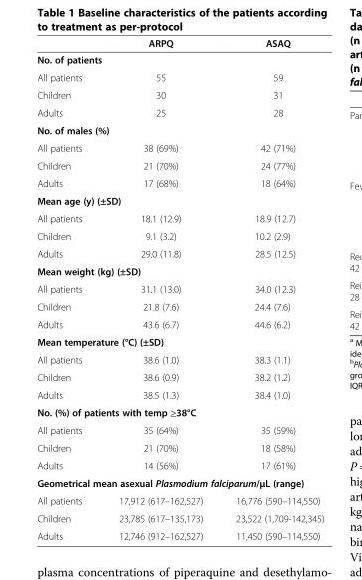table: (36, 37, 323, 541)
table column: (99, 37, 218, 541), (218, 37, 323, 541), (36, 37, 99, 541)
table column header: (36, 37, 323, 51)
table projected row header: (36, 191, 323, 209), (36, 332, 323, 350), (36, 403, 323, 421), (36, 473, 323, 491), (36, 51, 323, 68), (36, 121, 323, 138), (36, 262, 323, 279)
table row: (36, 85, 323, 103), (36, 103, 323, 121), (36, 138, 323, 156), (36, 156, 323, 174), (36, 191, 323, 209), (36, 209, 323, 227), (36, 244, 323, 262), (36, 279, 323, 297), (36, 297, 323, 315), (36, 332, 323, 350), (36, 350, 323, 368), (36, 385, 323, 403), (36, 403, 323, 421), (36, 438, 323, 456), (36, 473, 323, 491), (36, 491, 323, 509), (36, 51, 323, 68), (36, 68, 323, 85), (36, 121, 323, 138), (36, 174, 323, 191), (36, 227, 323, 244), (36, 262, 323, 279), (36, 315, 323, 332), (36, 368, 323, 385), (36, 421, 323, 438), (36, 456, 323, 473), (36, 509, 323, 526), (36, 526, 323, 541), (36, 37, 323, 51)
